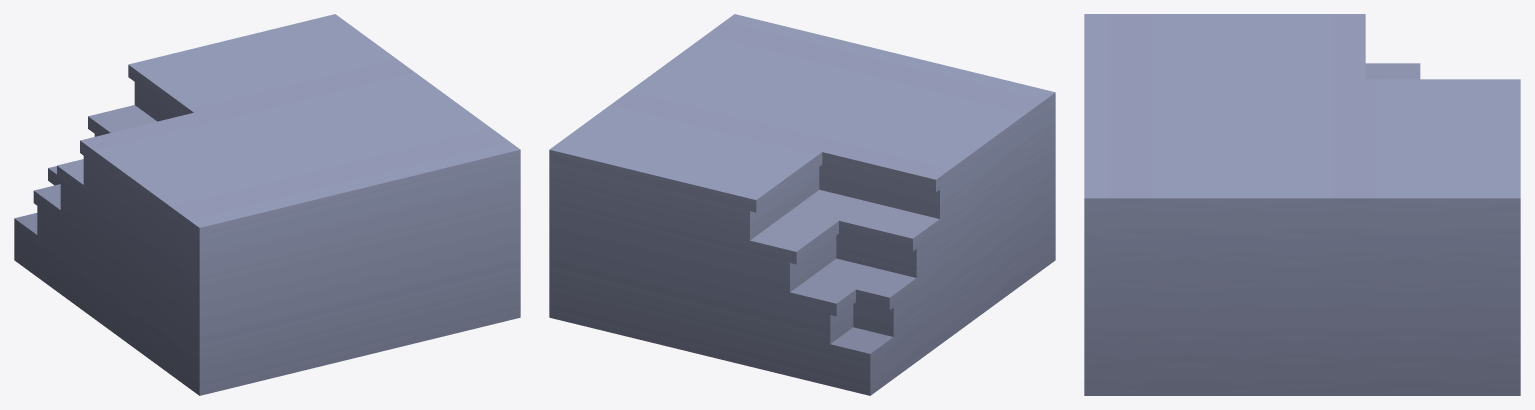
File: stairsFullCornerInner.fbx
3 views of the same model, side by side, from view 1: azimuth 30°, elevation 25°; view 2: azimuth 150°, elevation 25°; view 3: azimuth 270°, elevation 25° (orthographic). The views are drawn at different scales.
Parts seen in each view (by area): view 1: stairsFullCornerInner; view 2: stairsFullCornerInner; view 3: stairsFullCornerInner.
Part boxes in pixels (x1=…): stairsFullCornerInner: x1=14, y1=14, x2=520, y2=395; stairsFullCornerInner: x1=549, y1=14, x2=1055, y2=395; stairsFullCornerInner: x1=1084, y1=14, x2=1520, y2=395.
Bounding box in the file's own units: 1 × 1 × 0.5.
